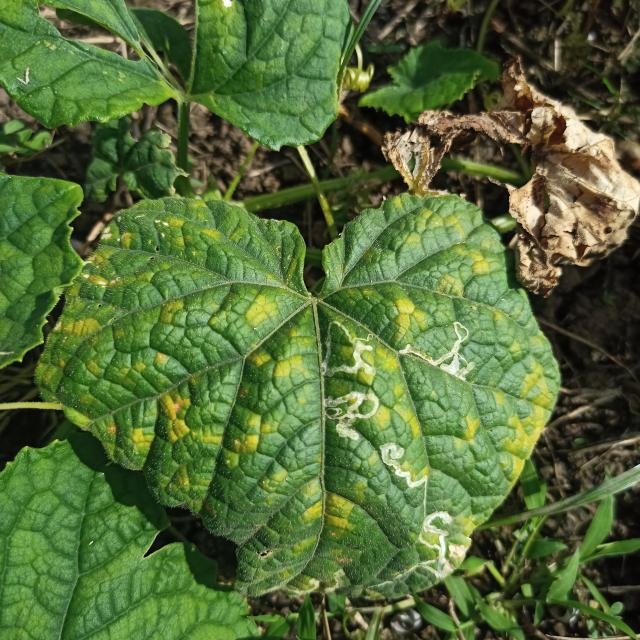disease_cucumber: (70, 205, 550, 595)
